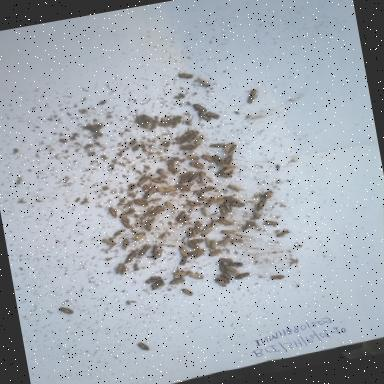pbw: (196, 74, 216, 92), (56, 302, 76, 320), (188, 101, 211, 116), (267, 268, 287, 284), (132, 244, 152, 258), (130, 230, 150, 244), (176, 130, 196, 144), (232, 270, 255, 282), (244, 88, 260, 105), (116, 217, 134, 232), (210, 153, 226, 169), (223, 194, 242, 207), (214, 218, 238, 228), (144, 273, 164, 285), (148, 204, 165, 218), (195, 110, 212, 124), (155, 184, 172, 198), (190, 248, 208, 261), (239, 221, 257, 234), (207, 247, 226, 259), (185, 198, 204, 210), (192, 220, 206, 236), (222, 154, 236, 170), (133, 196, 149, 210), (112, 262, 128, 276), (186, 129, 202, 143), (207, 141, 227, 152), (179, 142, 197, 154), (188, 159, 206, 171), (176, 70, 194, 82), (187, 170, 202, 184), (176, 182, 192, 195), (260, 189, 276, 202), (152, 248, 168, 261), (149, 174, 166, 186), (171, 268, 191, 278), (214, 170, 234, 180), (227, 260, 247, 270), (169, 276, 189, 286), (137, 340, 151, 354), (226, 143, 240, 157), (166, 162, 180, 176), (201, 153, 215, 167), (178, 253, 192, 267), (212, 276, 228, 288), (222, 164, 238, 176), (136, 176, 152, 188), (218, 202, 230, 218), (101, 236, 117, 248), (205, 110, 221, 122), (218, 227, 237, 237), (149, 283, 168, 293), (275, 228, 292, 239), (228, 199, 245, 210), (124, 251, 138, 264), (255, 199, 269, 212), (106, 206, 120, 219), (119, 238, 132, 252), (142, 188, 157, 200), (192, 134, 207, 146), (118, 211, 136, 221), (262, 218, 280, 228), (164, 183, 180, 194), (189, 271, 205, 282), (164, 200, 176, 214), (142, 218, 154, 232), (208, 238, 220, 252), (156, 168, 168, 182), (222, 142, 236, 154), (218, 274, 232, 286), (220, 235, 234, 247), (197, 170, 209, 184), (188, 241, 202, 253), (148, 279, 166, 288), (186, 236, 204, 245), (198, 229, 214, 239), (211, 196, 227, 206), (182, 227, 194, 240), (222, 200, 234, 213), (228, 183, 242, 194), (178, 244, 189, 258), (199, 223, 213, 234), (201, 184, 220, 192), (221, 270, 233, 282), (204, 196, 216, 208), (252, 207, 263, 220), (216, 260, 226, 274), (186, 152, 200, 162), (208, 217, 219, 229), (182, 287, 194, 298), (204, 236, 214, 249), (219, 256, 233, 265), (198, 189, 206, 202), (200, 206, 208, 218)
